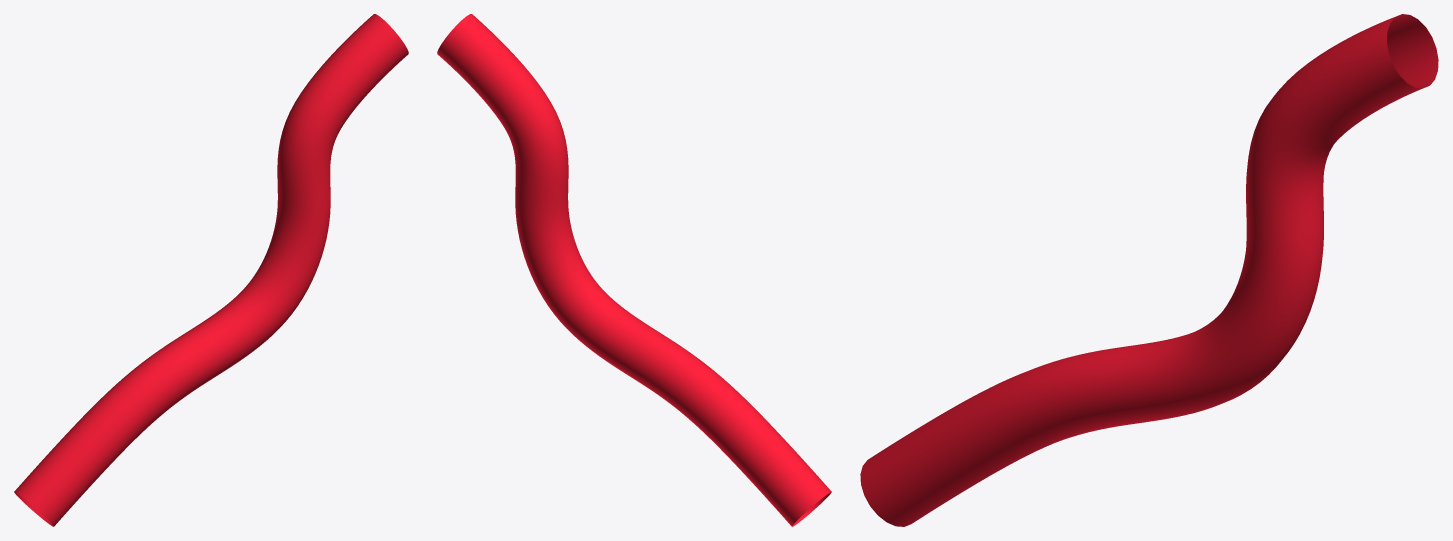
File: vesselkid5.obj
3 views of the same model, side by side, from view 1: azimuth 30°, elevation 25°; view 2: azimuth 150°, elevation 25°; view 3: azimuth 330°, elevation 25° (orthographic). The views are drawn at different scales.
Visible parts, largest first — view 1: grp1; view 2: grp1; view 3: grp1.
Part boxes in pixels (x1=…): grp1: x1=14, y1=14, x2=408, y2=526; grp1: x1=437, y1=14, x2=831, y2=526; grp1: x1=860, y1=14, x2=1438, y2=526.
Size of the model in its own units: 141 by 150 by 16.88.
